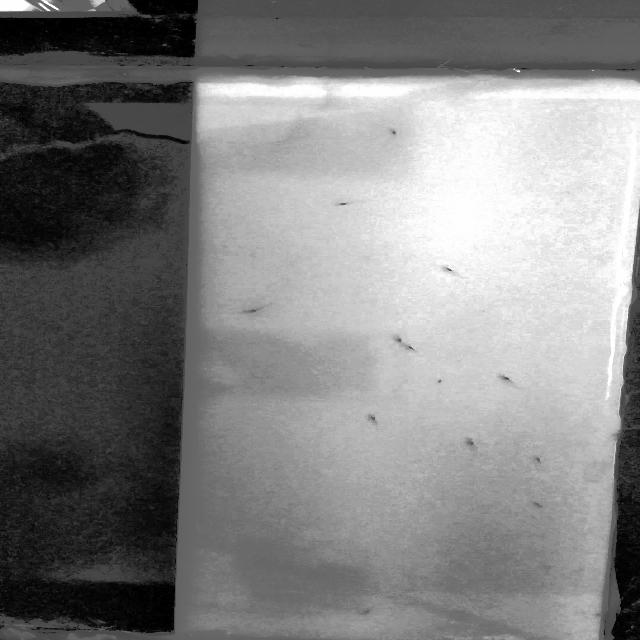shrimp: (234, 302, 269, 319), (430, 265, 470, 278), (353, 604, 382, 620), (328, 196, 354, 212), (493, 372, 518, 387), (357, 412, 385, 425), (462, 438, 486, 452), (525, 451, 546, 465), (380, 126, 402, 136), (388, 334, 406, 346), (528, 500, 547, 510), (404, 345, 422, 352)
